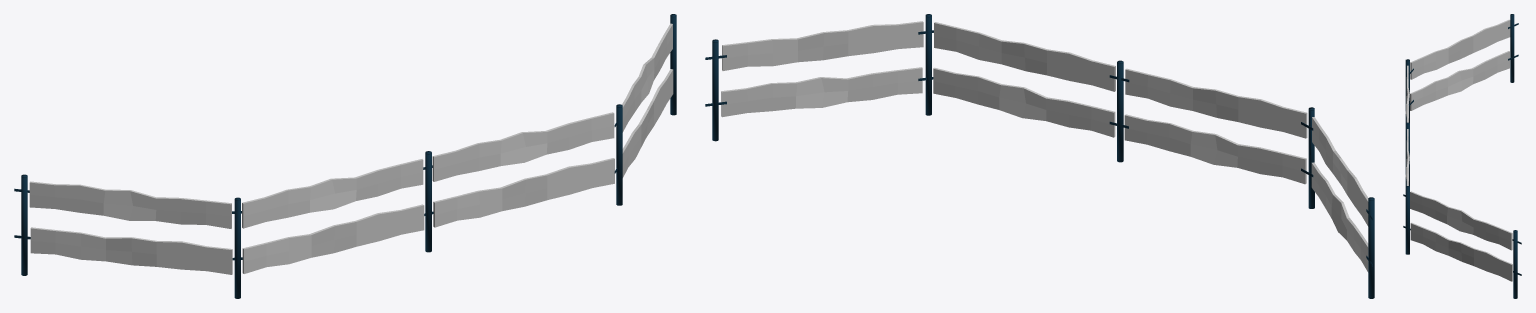
The model's file is edap-fence-wood_LOD00.gltf.
3 views of the same model, side by side, from view 1: azimuth 30°, elevation 25°; view 2: azimuth 150°, elevation 25°; view 3: azimuth 270°, elevation 25° (orthographic). The views are drawn at different scales.
Parts seen in each view (by area): view 1: upper beam, lower beam, upper beam.002, upper beam.001, lower beam.001, lower beam.002, upper beam.003, lower beam.003, post.004, post.001, post.002, post.003 (+1 smaller); view 2: lower beam.003, upper beam.003, lower beam.002, lower beam.001, upper beam.001, upper beam.002, lower beam, upper beam, post.002, post.003, post.004, post.005 (+1 smaller); view 3: upper beam.003, lower beam.003, lower beam, upper beam, post.004, post.003, post.005, post.001, post.002, upper beam.001, upper beam.002.
Boxes of the visible parts, bbox=[...] form: upper beam: bbox=[29, 181, 231, 228]; lower beam: bbox=[30, 227, 232, 274]; upper beam.002: bbox=[432, 112, 614, 181]; upper beam.001: bbox=[242, 159, 423, 228]; lower beam.001: bbox=[242, 204, 424, 273]; lower beam.002: bbox=[433, 158, 614, 227]; upper beam.003: bbox=[622, 23, 672, 132]; lower beam.003: bbox=[622, 69, 673, 177]; post.004: bbox=[14, 174, 30, 275]; post.001: bbox=[232, 197, 242, 298]; post.002: bbox=[423, 151, 433, 252]; post.003: bbox=[614, 104, 622, 205]; lower beam.003: bbox=[721, 67, 922, 117]; upper beam.003: bbox=[722, 21, 923, 70]; lower beam.002: bbox=[933, 67, 1115, 137]; lower beam.001: bbox=[1124, 114, 1306, 184]; upper beam.001: bbox=[1125, 68, 1307, 138]; upper beam.002: bbox=[934, 22, 1115, 91]; lower beam: bbox=[1311, 162, 1368, 272]; upper beam: bbox=[1312, 117, 1368, 226]; post.002: bbox=[1109, 60, 1129, 162]; post.003: bbox=[918, 14, 933, 115]; post.004: bbox=[1366, 197, 1374, 298]; post.005: bbox=[712, 39, 718, 141]; upper beam.003: bbox=[1410, 191, 1512, 250]; lower beam.003: bbox=[1410, 222, 1512, 281]; lower beam: bbox=[1410, 51, 1509, 110]; upper beam: bbox=[1410, 19, 1510, 79]; post.004: bbox=[1508, 14, 1518, 82]; post.003: bbox=[1403, 186, 1410, 254]; post.005: bbox=[1513, 230, 1517, 298]; post.001: bbox=[1405, 59, 1413, 122]; post.002: bbox=[1405, 122, 1409, 186]; upper beam.001: bbox=[1405, 65, 1409, 122]; upper beam.002: bbox=[1405, 129, 1409, 185].
Size of the model in its own units: 7.03 by 1 by 1.6.
